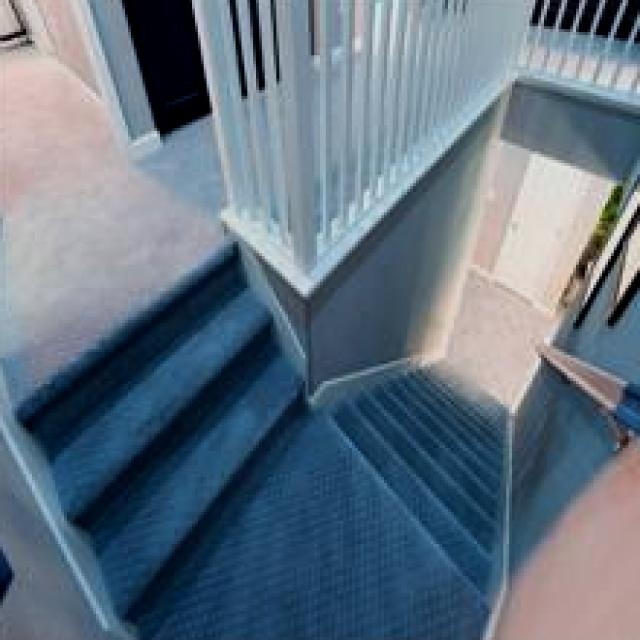downstair: (321, 315, 568, 595)
